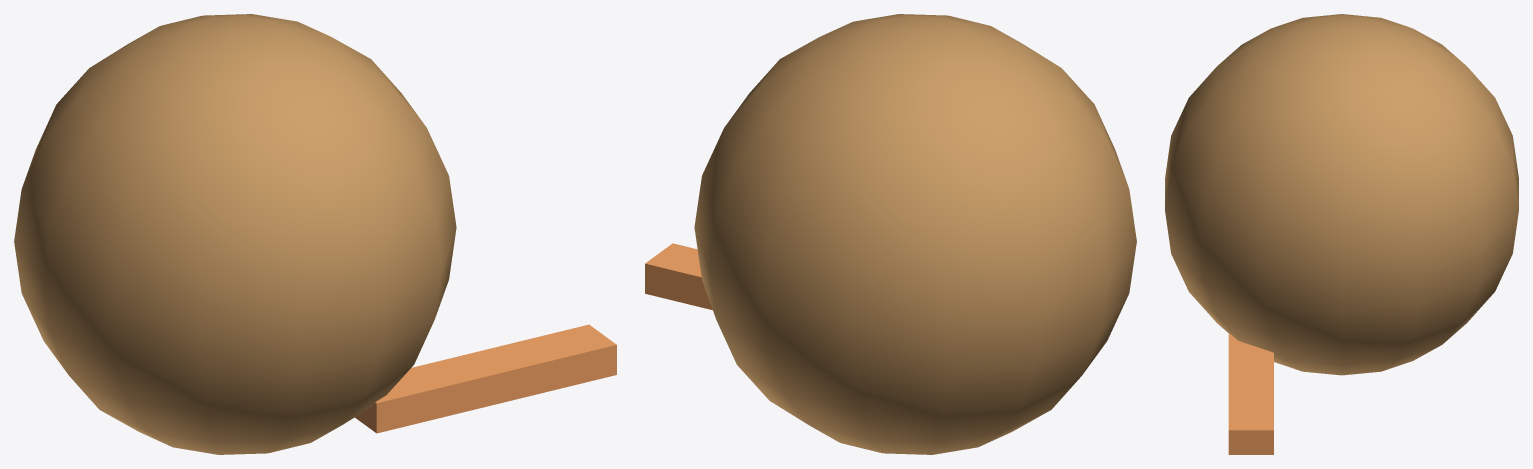
The model's file is yarn_ball.glb.
3 views of the same model, side by side, from view 1: azimuth 30°, elevation 25°; view 2: azimuth 150°, elevation 25°; view 3: azimuth 270°, elevation 25° (orthographic). The views are drawn at different scales.
Visible parts, largest first — view 1: yarn_ball; view 2: yarn_ball; view 3: yarn_ball.
Boxes of the visible parts, bbox=[...] form: yarn_ball: bbox=[14, 14, 616, 454]; yarn_ball: bbox=[645, 14, 1136, 454]; yarn_ball: bbox=[1165, 14, 1518, 454].
Size of the model in its own units: 21 by 16 by 15.6.
